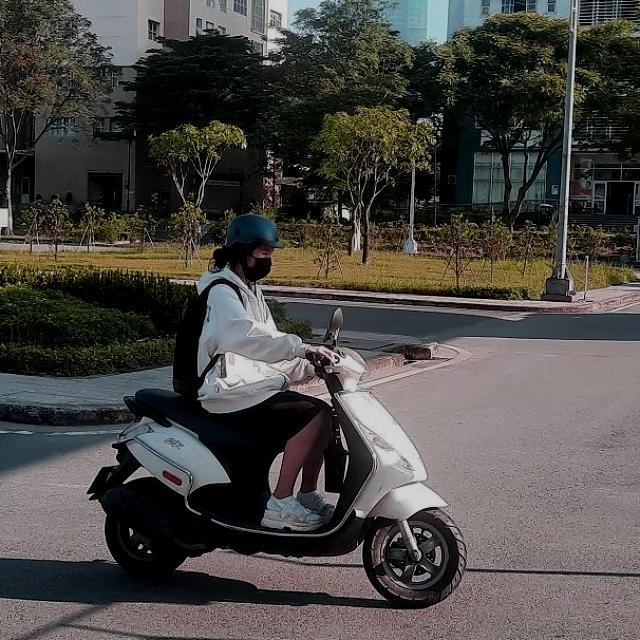Helmet: (218, 207, 282, 280)
